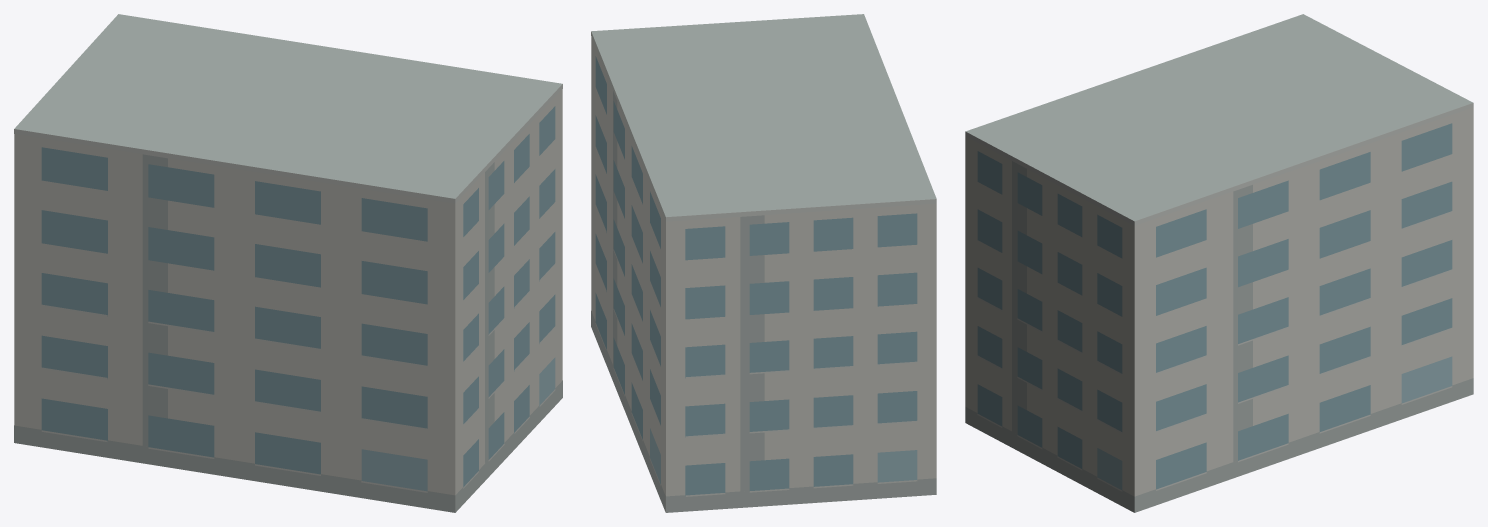
File: survey-upis-32725022.glb
The picture shows the model from 3 angles, left to right: view 1: azimuth 30°, elevation 25°; view 2: azimuth 150°, elevation 25°; view 3: azimuth 270°, elevation 25°; orthographic projection. The views are drawn at different scales.
Visible parts, largest first — view 1: survey-upis-32725022.tmp; view 2: survey-upis-32725022.tmp; view 3: survey-upis-32725022.tmp.
Part boxes in pixels (x1,y1,x2,y2): survey-upis-32725022.tmp: (14, 14, 562, 512); survey-upis-32725022.tmp: (591, 14, 936, 512); survey-upis-32725022.tmp: (965, 14, 1473, 512).
Bounding box in the file's own units: 23.28 × 15.25 × 24.1.
